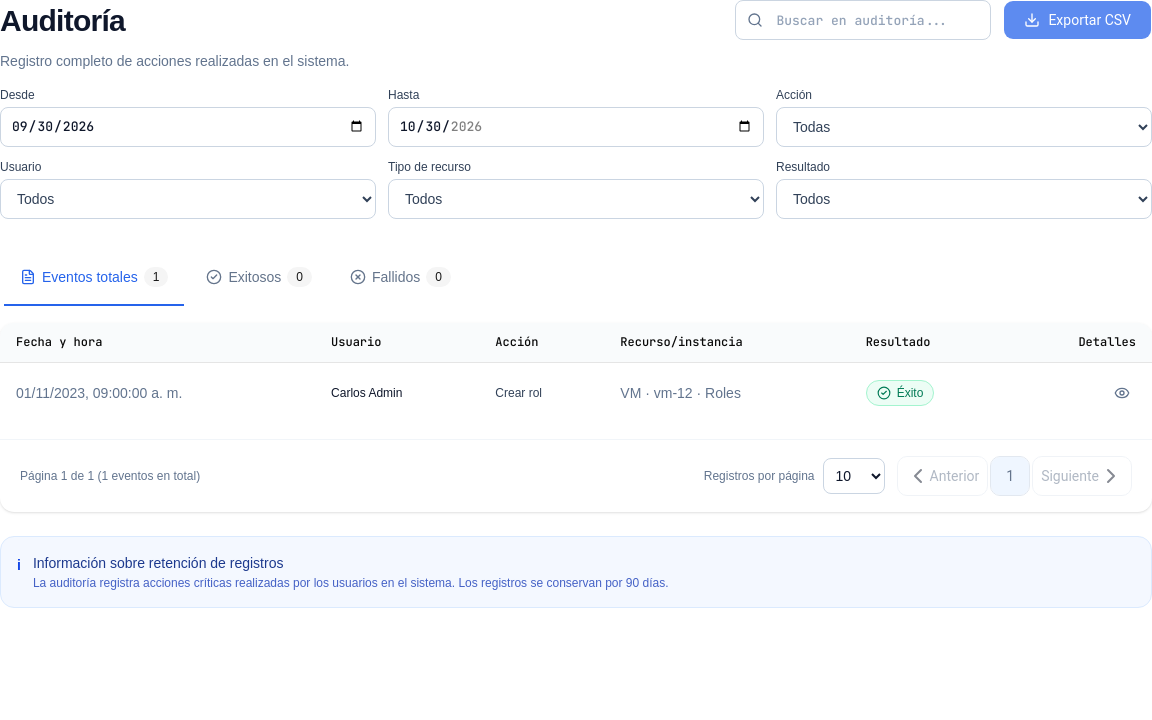
it: AuditoriaPage › Renderizado Inicial: debe solicitar la primera página y renderizar las filas simuladas
Expected: the text "Carlos Admin" is shown, [315, 363, 479, 423]
Expected: the text "VM · vm-12 · Roles" is shown, [604, 363, 850, 423]
Click the button named "ver detalles" at (1122, 393), box [1108, 379, 1136, 407]
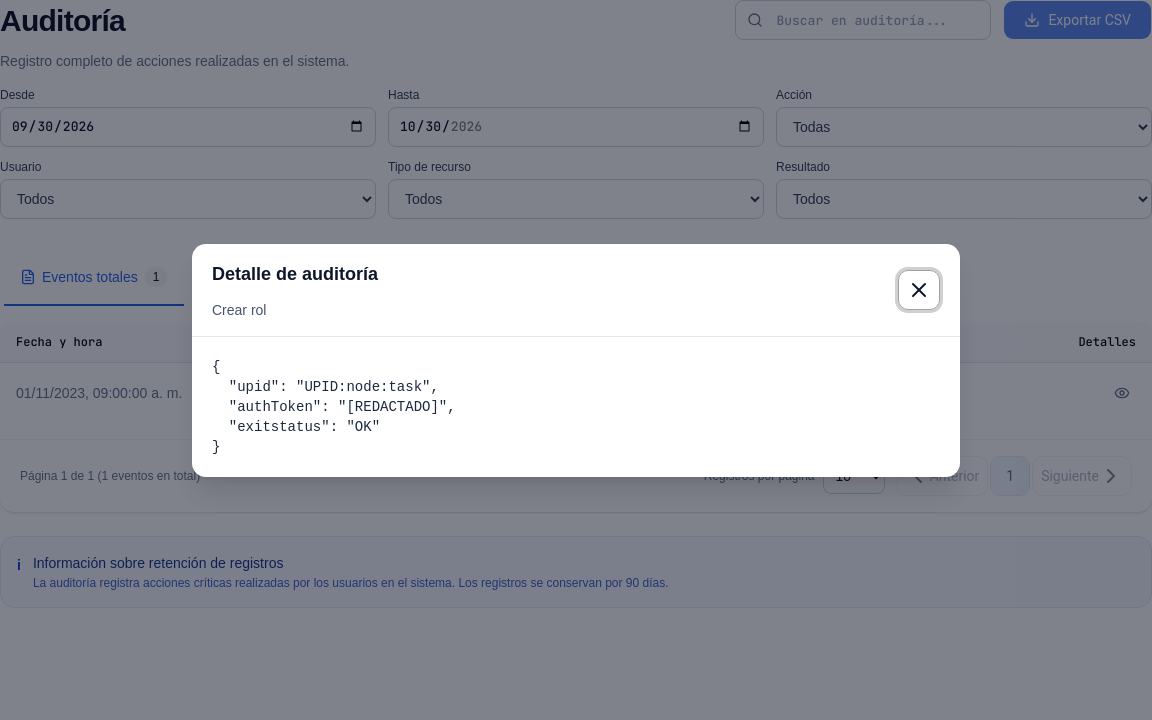
Expected: the dialog "Detalle de auditoría" does not show "secret-value", [192, 244, 960, 476]
Now the dialog "Detalle de auditoría" shows "UPID:node:task", box [212, 358, 456, 454]
Now the dialog "Detalle de auditoría" shows "[REDACTADO]", box [212, 358, 456, 454]
